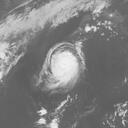cyclone: (41, 41, 85, 92)
